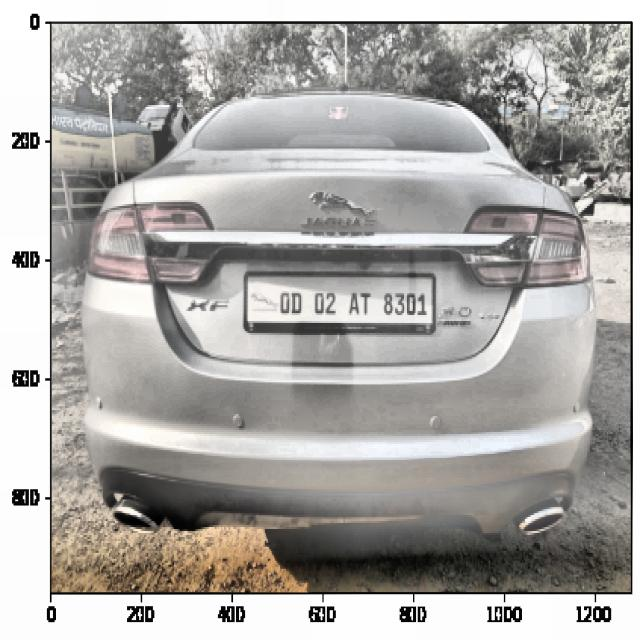license_plate: (273, 276, 434, 326)
